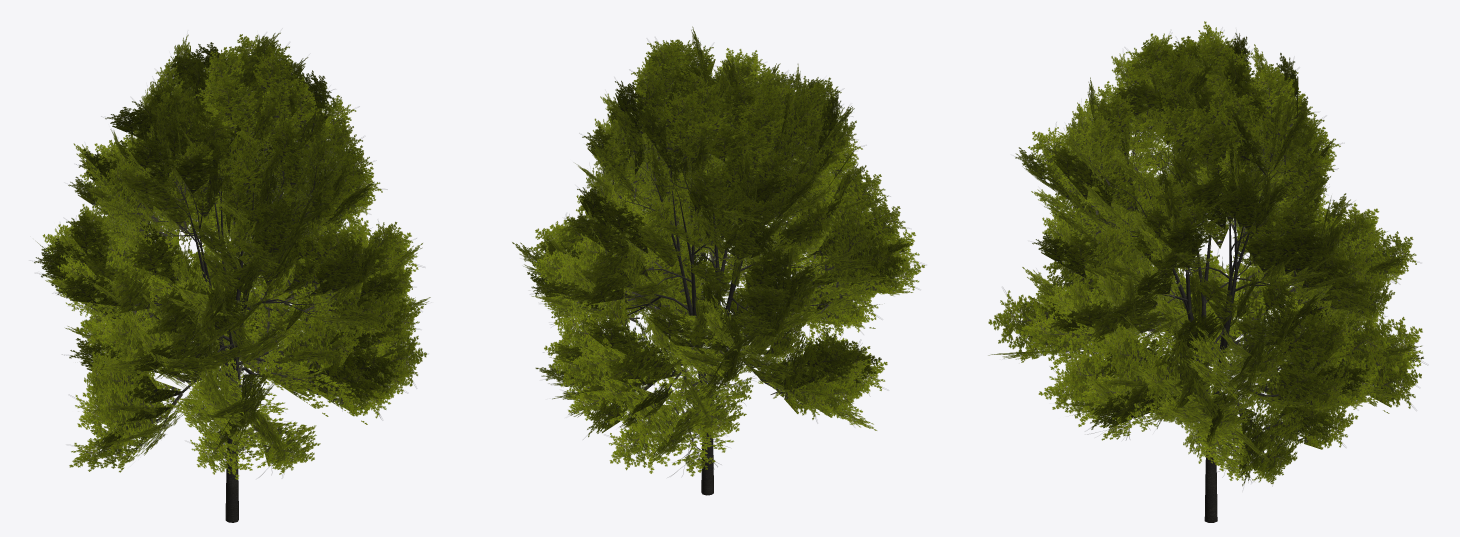
File: forest-maple-tree-v1-optimized.glb
3 views of the same model, side by side, from view 1: azimuth 30°, elevation 25°; view 2: azimuth 150°, elevation 25°; view 3: azimuth 270°, elevation 25° (orthographic). The views are drawn at different scales.
Visible parts, largest first — view 1: MapleTree; view 2: MapleTree; view 3: MapleTree.
Part boxes in pixels (x1,y1,x2,y2): MapleTree: (34, 32, 430, 522); MapleTree: (512, 26, 925, 495); MapleTree: (988, 21, 1424, 522).
Bounding box in the file's own units: 4.3 × 4.8 × 4.21.
Materials: 2 (2 with a texture image).
